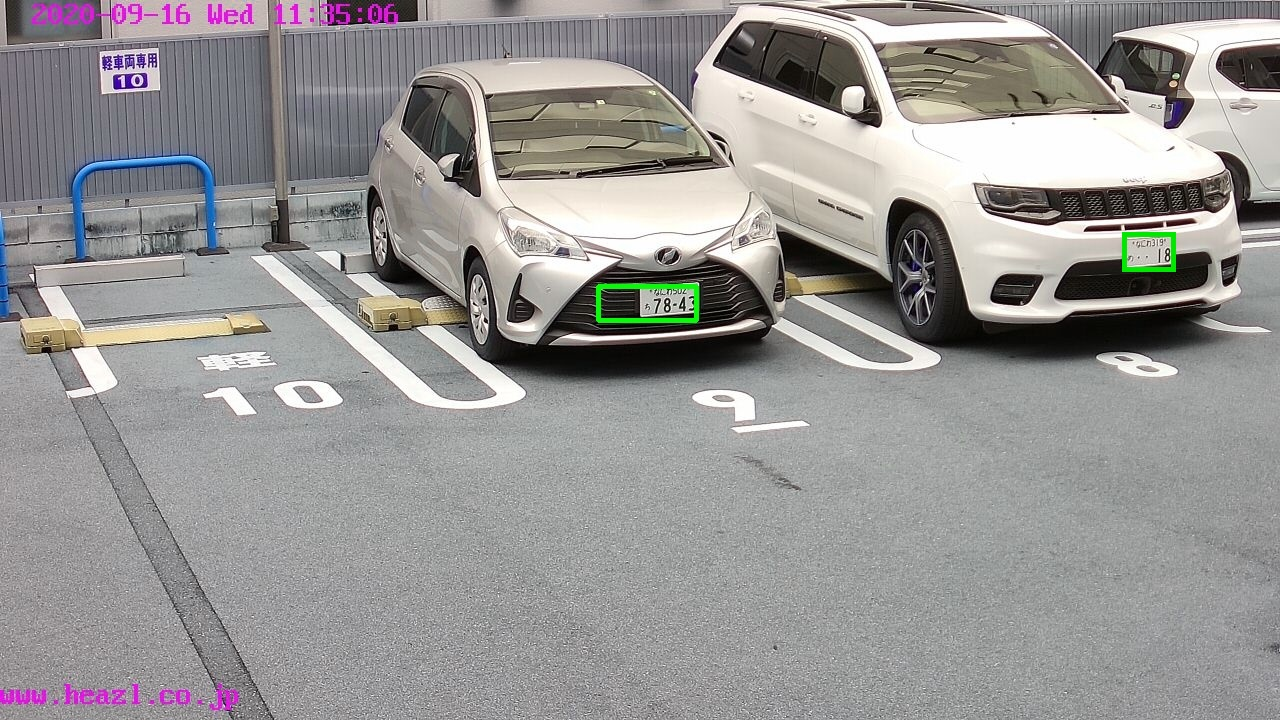number_plate: (639, 286, 701, 316), (1124, 236, 1174, 266)
